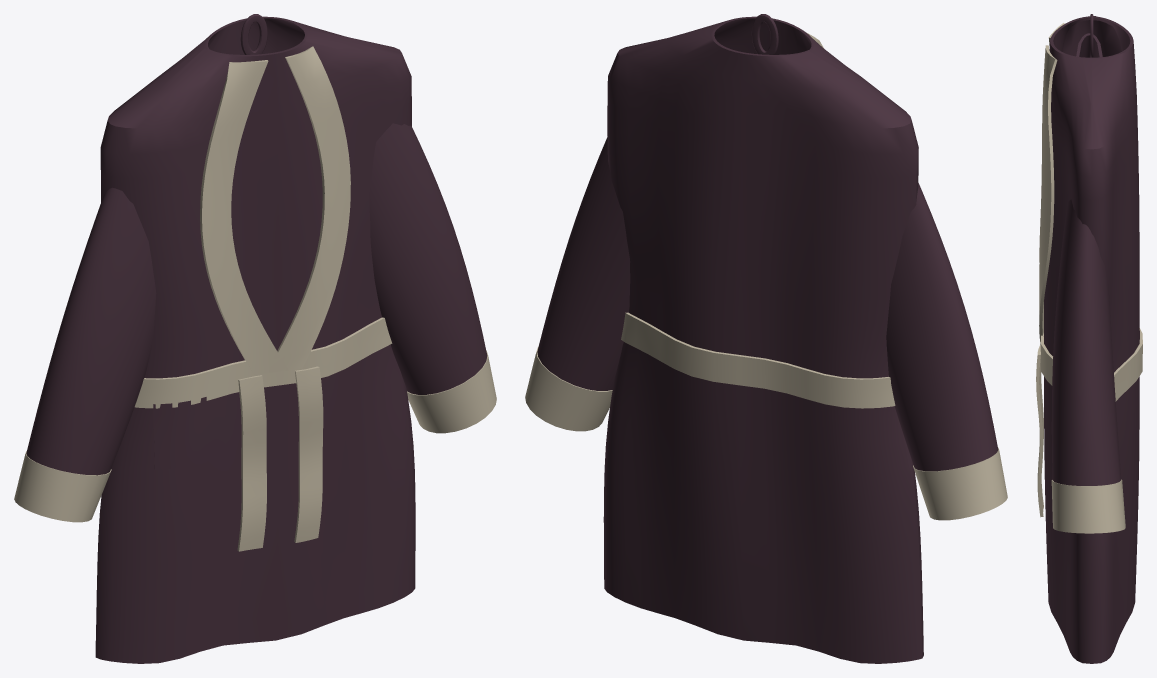
Rendered from bath-robe-on-hook-5a4ba195cb5b.glb.
The picture shows the model from 3 angles, left to right: view 1: azimuth 30°, elevation 25°; view 2: azimuth 150°, elevation 25°; view 3: azimuth 270°, elevation 25°; orthographic projection. The views are drawn at different scales.
Parts seen in each view (by area): view 1: cloth-plum, cloth-cream; view 2: cloth-plum, cloth-cream; view 3: cloth-plum, cloth-cream.
Boxes of the visible parts, <box> form: cloth-plum: <box>26,14,487,663</box>; cloth-cream: <box>14,46,496,551</box>; cloth-plum: <box>537,14,998,663</box>; cloth-cream: <box>525,32,1007,520</box>; cloth-plum: <box>1044,14,1139,663</box>; cloth-cream: <box>1036,23,1142,533</box>.
Size of the model in its own units: 0.663 by 0.82 by 0.137.
